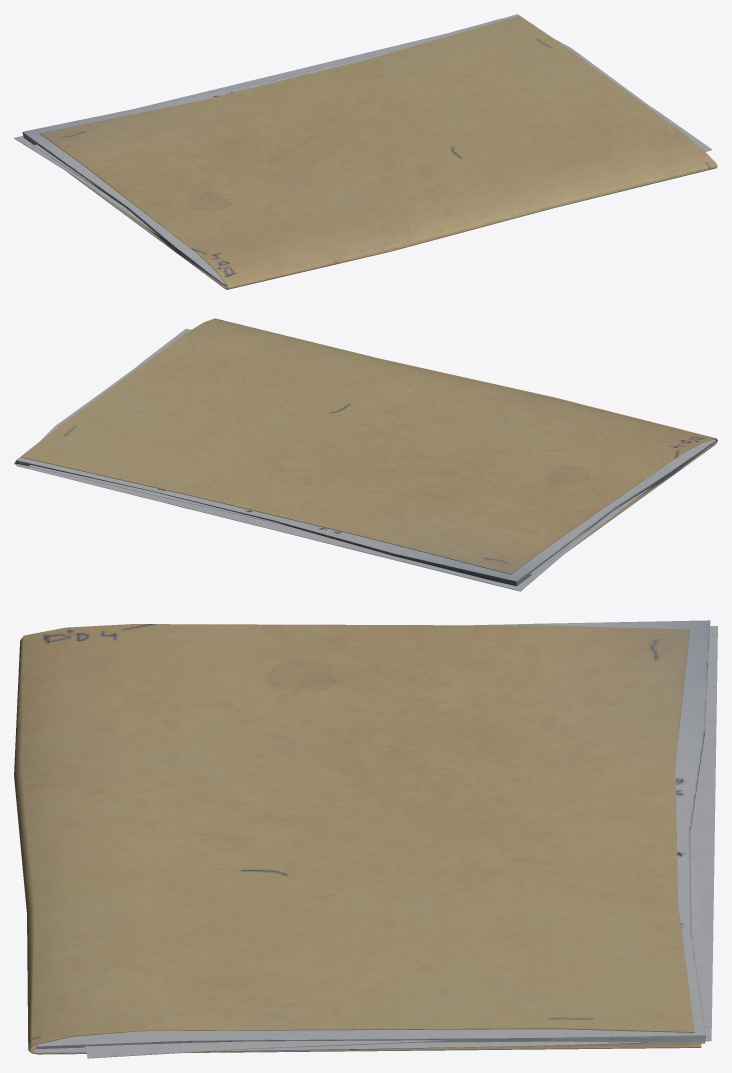
File: SM_Folder_Stack_01a.fbx
3 renders of one model, top to bottom at view 1: azimuth 30°, elevation 25°; view 2: azimuth 150°, elevation 25°; view 3: azimuth 270°, elevation 25°, orthographic. The views are drawn at different scales.
Visible parts, largest first — view 1: SM_Folder_Stack_01a_LOD0; view 2: SM_Folder_Stack_01a_LOD0; view 3: SM_Folder_Stack_01a_LOD0.
Boxes of the visible parts, x1,y1,x2,y2 form: SM_Folder_Stack_01a_LOD0: (14,14,717,289); SM_Folder_Stack_01a_LOD0: (14,318,717,591); SM_Folder_Stack_01a_LOD0: (14,620,717,1058).
Size of the model in its own units: 31.14 by 21.62 by 0.8281.
1 material, 1 textured.
